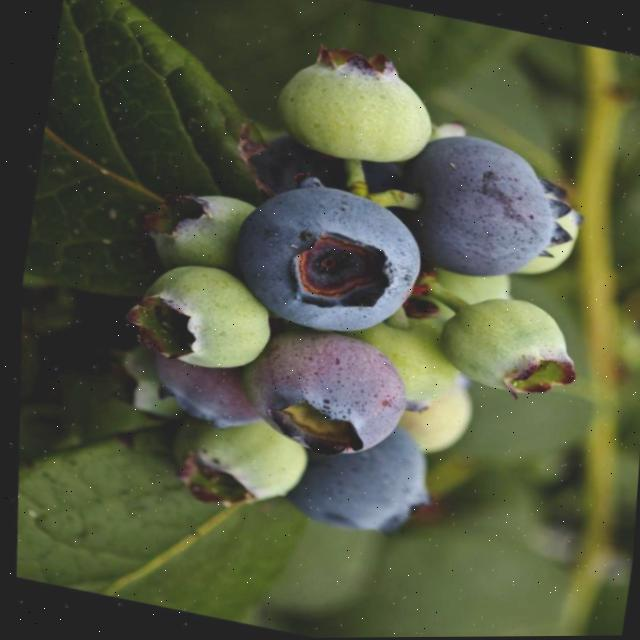RipeBlueBerry: (207, 164, 441, 354), (387, 123, 583, 299)
Semi-RipeBlueBerry: (219, 316, 417, 473)
UnripeBlueBerry: (259, 38, 448, 180)
